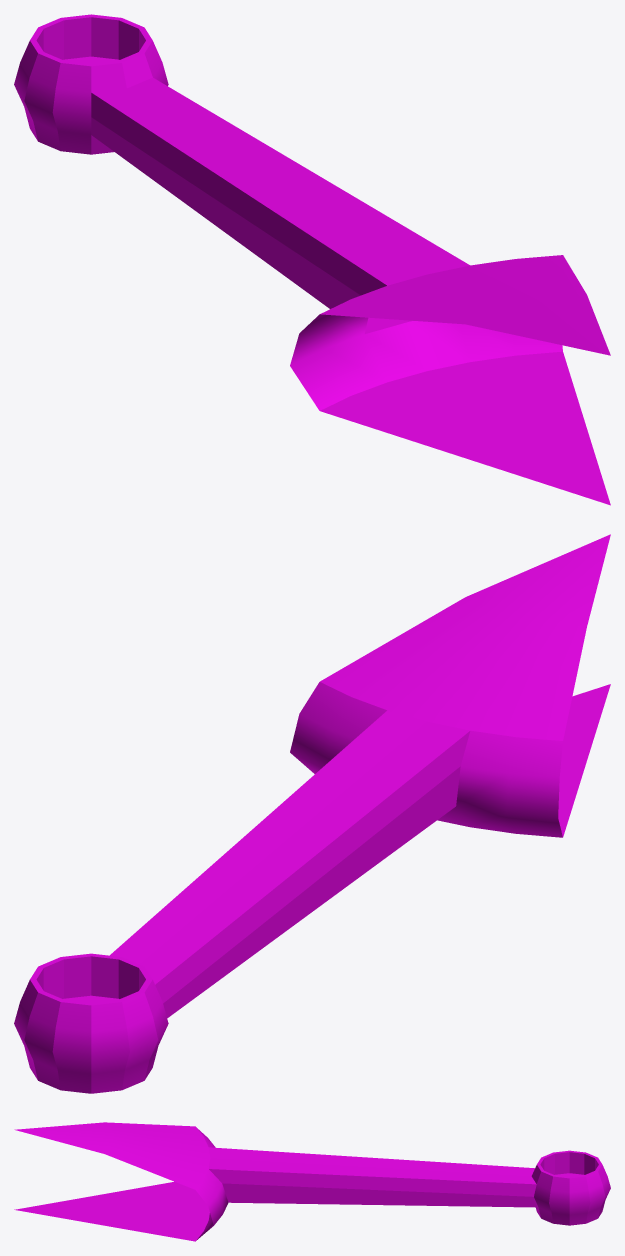
The model's file is body8_17.fbx.
The picture shows the model from 3 angles, top to bottom: view 1: azimuth 30°, elevation 25°; view 2: azimuth 150°, elevation 25°; view 3: azimuth 270°, elevation 25°; orthographic projection. The views are drawn at different scales.
Parts seen in each view (by area): view 1: pCylinder255; view 2: pCylinder255; view 3: pCylinder255.
Part boxes in pixels (x1,y1,x2,y2): pCylinder255: (14, 14, 610, 505); pCylinder255: (14, 534, 610, 1093); pCylinder255: (14, 1122, 610, 1241).
Bounding box in the file's own units: 3.42 × 1.87 × 12.33.
